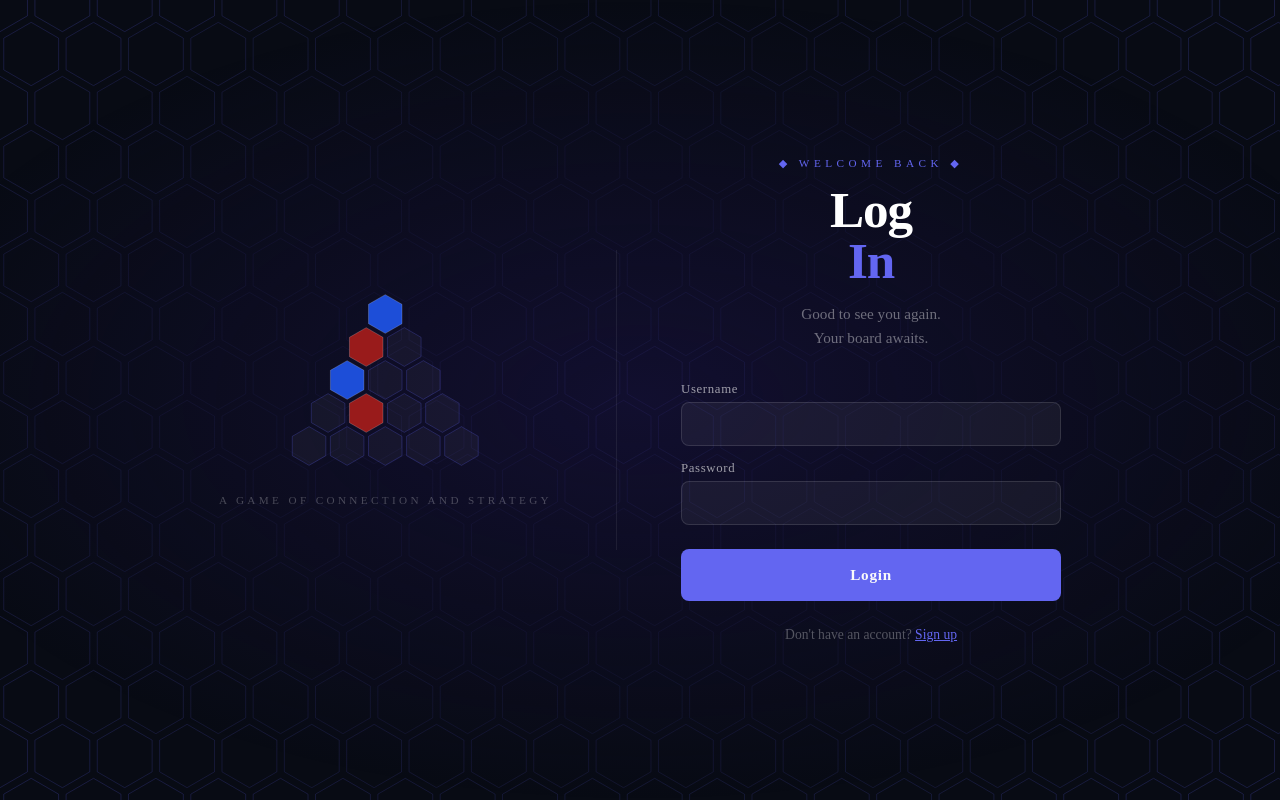
LoginForm › shows server error on invalid credentials
The width and height of the screenshot is (1280, 800).
Type "pablo" into the field labelled "Username". click: (871,424)
box: x1=681 y1=402 x2=1061 y2=446
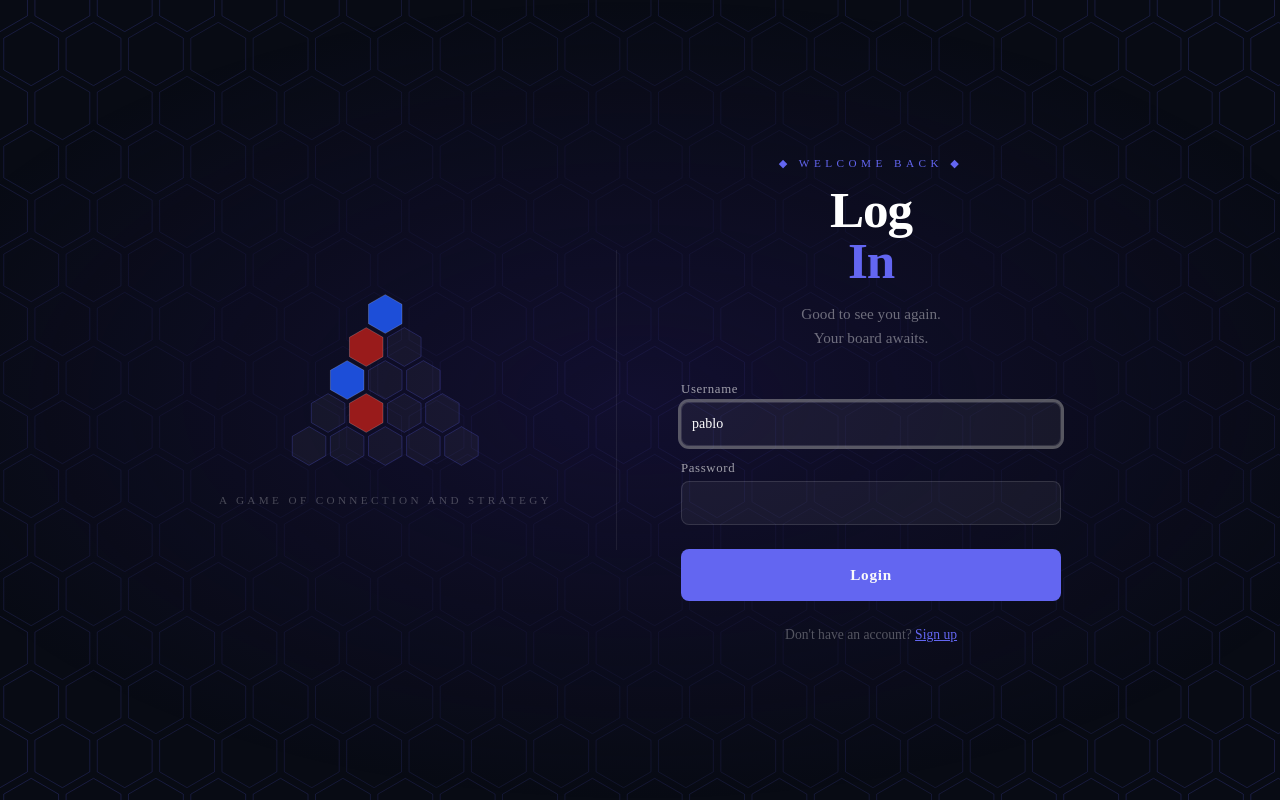
Type "wrongpass" into the password field labelled "Password". click: (871,503)
box: x1=681 y1=481 x2=1061 y2=525
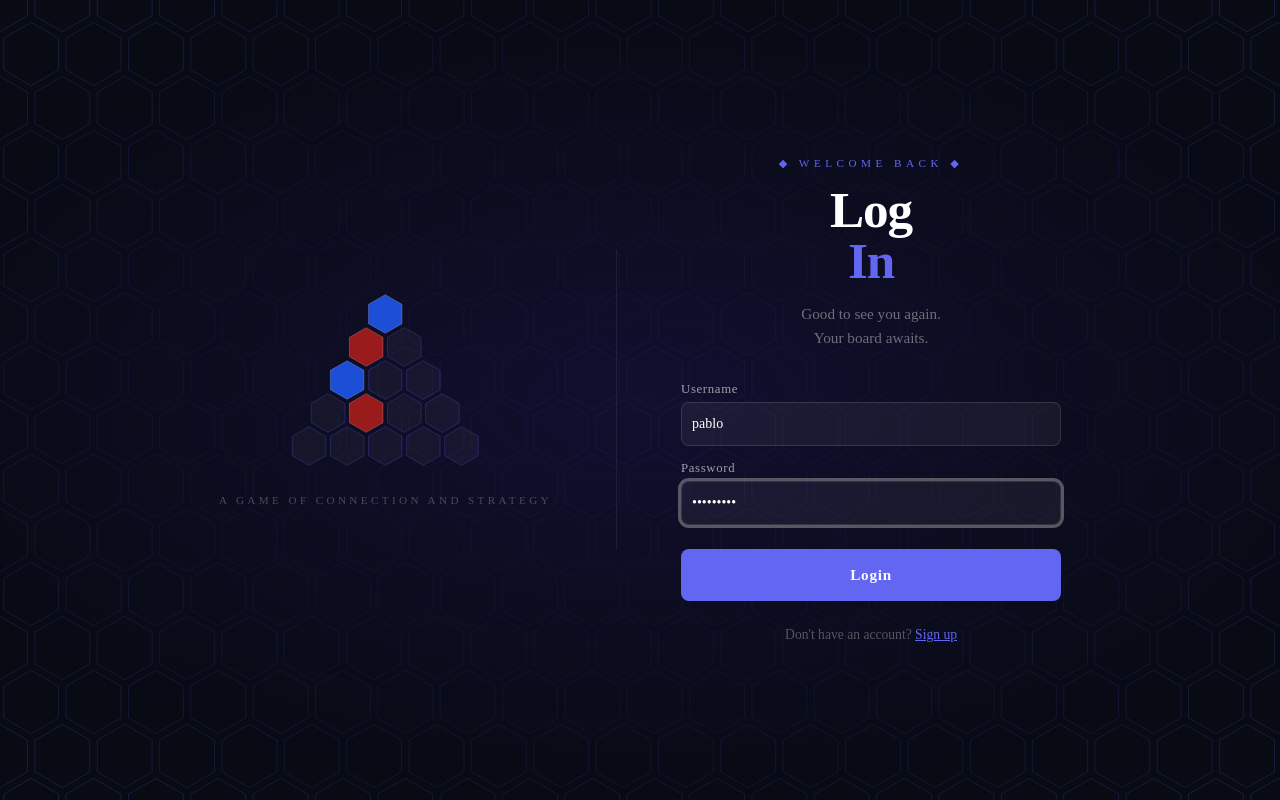
Click the button "Login". click: (871,575)
box: x1=681 y1=549 x2=1061 y2=601
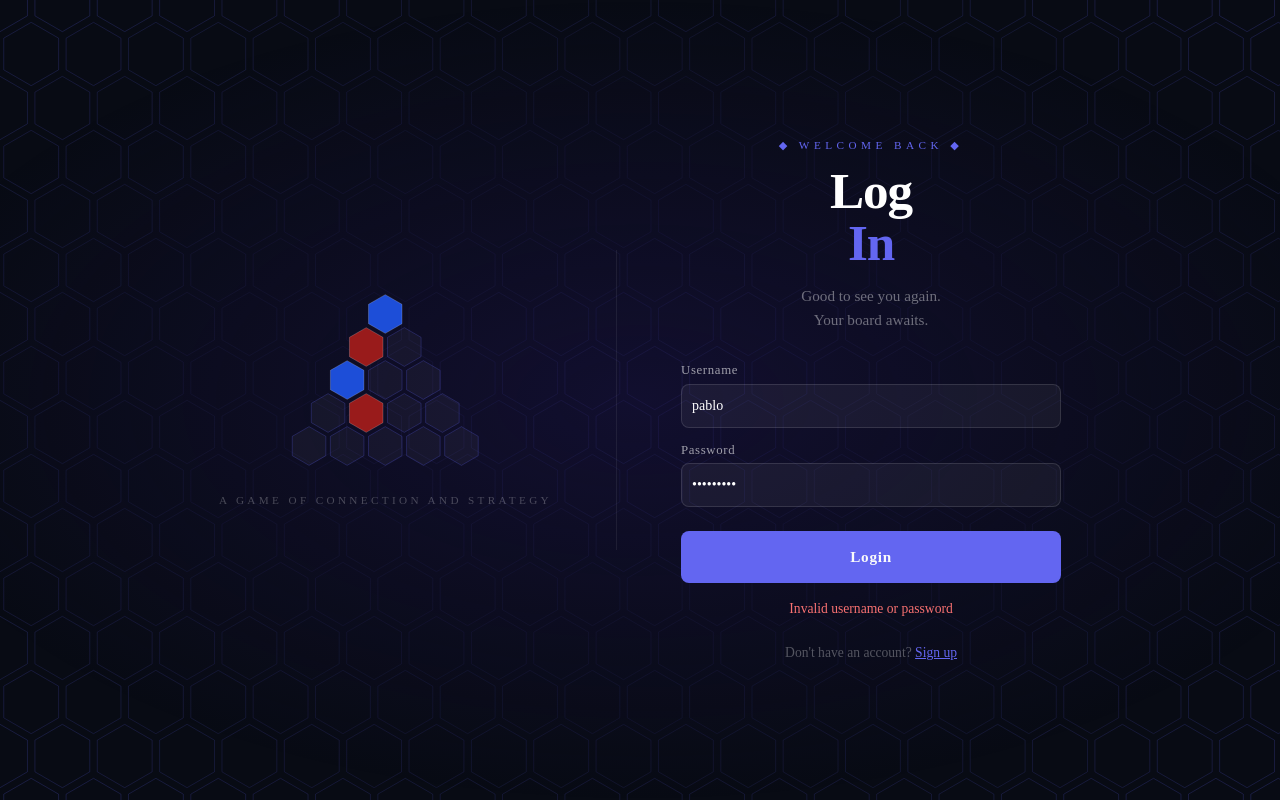
Expected: the text "Invalid username or password" is shown, x1=789 y1=601 x2=953 y2=616
